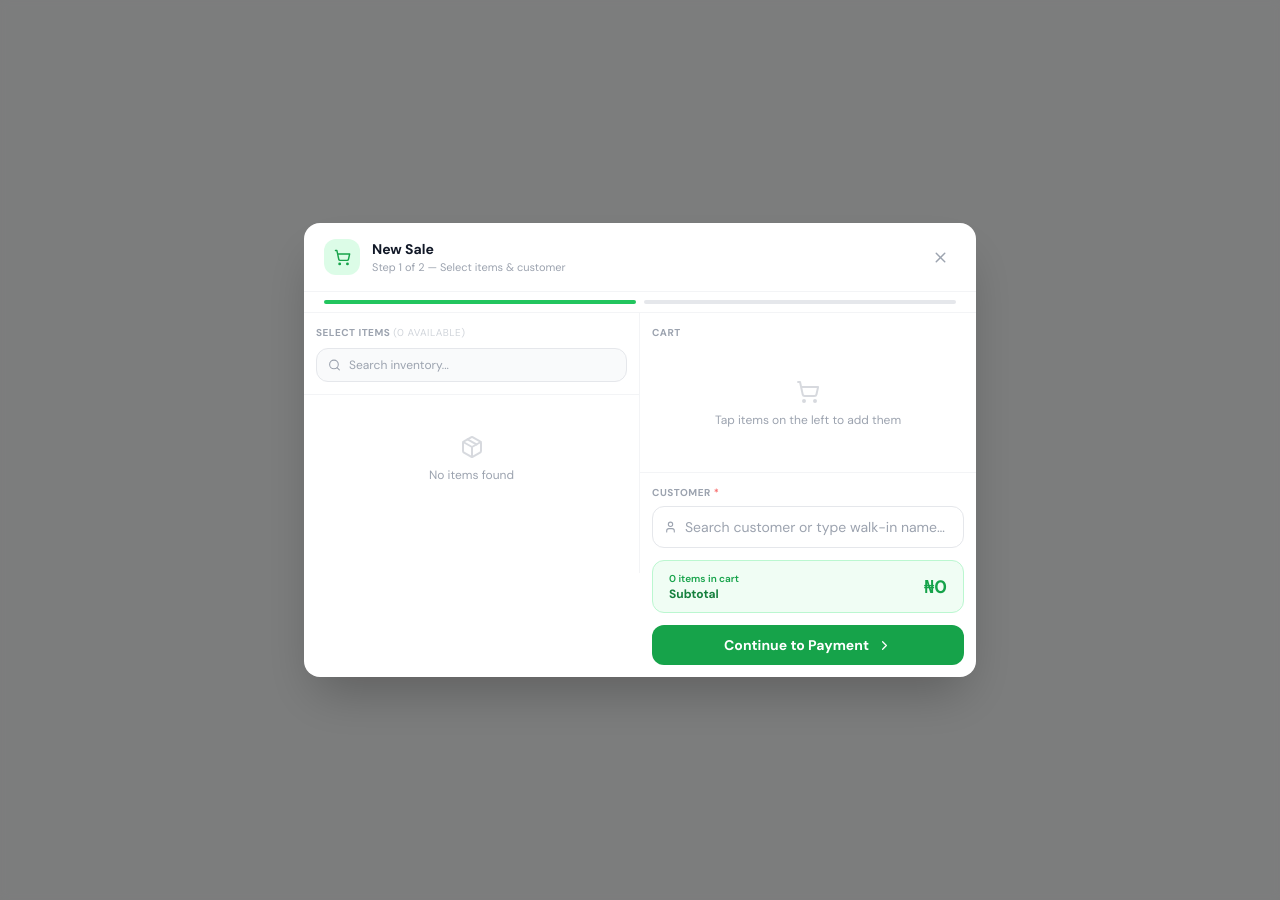
<NewSaleModal /> › shows a validation error when the user tries to continue without items
Click the button "Continue to Payment" at (808, 645), box [652,625,964,665]
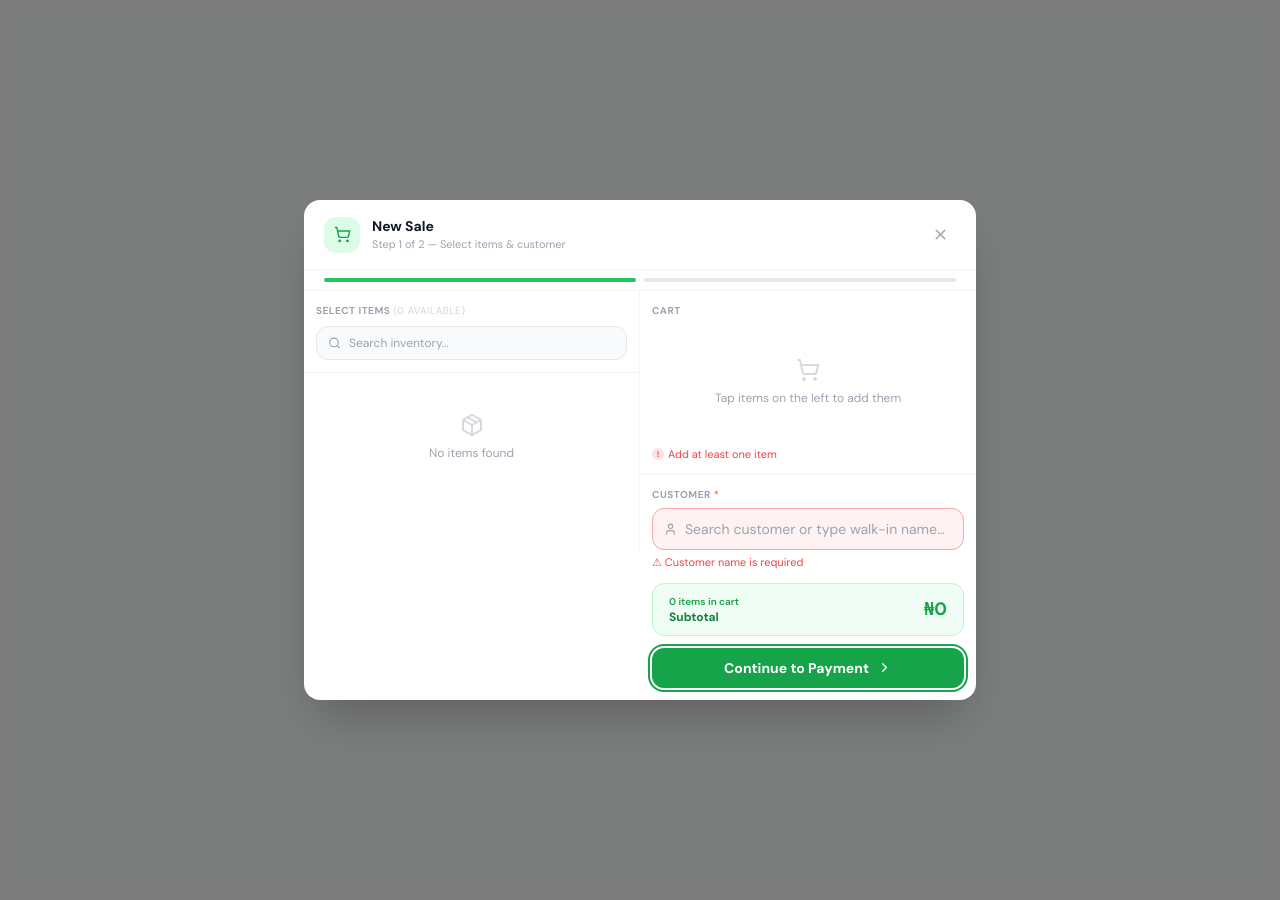
Check: the text "! Add at least one item" is shown, box [652,447,777,461]
Check: the text "⚠ Customer name is required" is shown, box [652,555,803,569]
